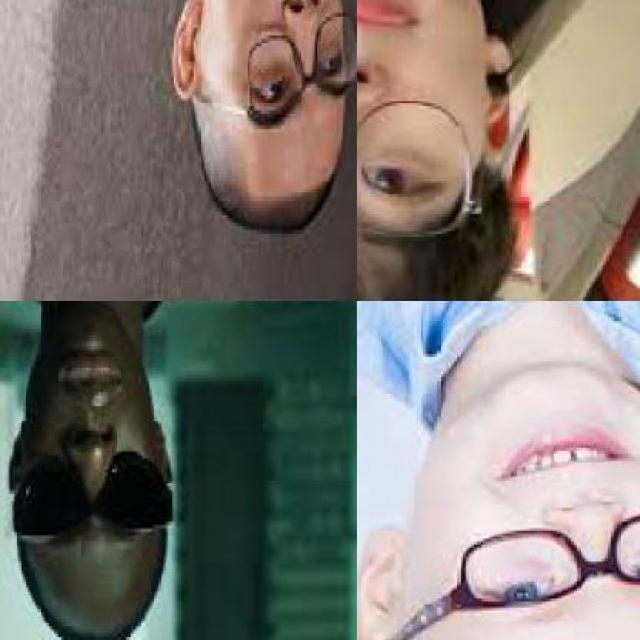Glasses: (357, 56, 491, 250), (432, 517, 638, 614), (9, 438, 179, 552), (247, 12, 356, 112)
